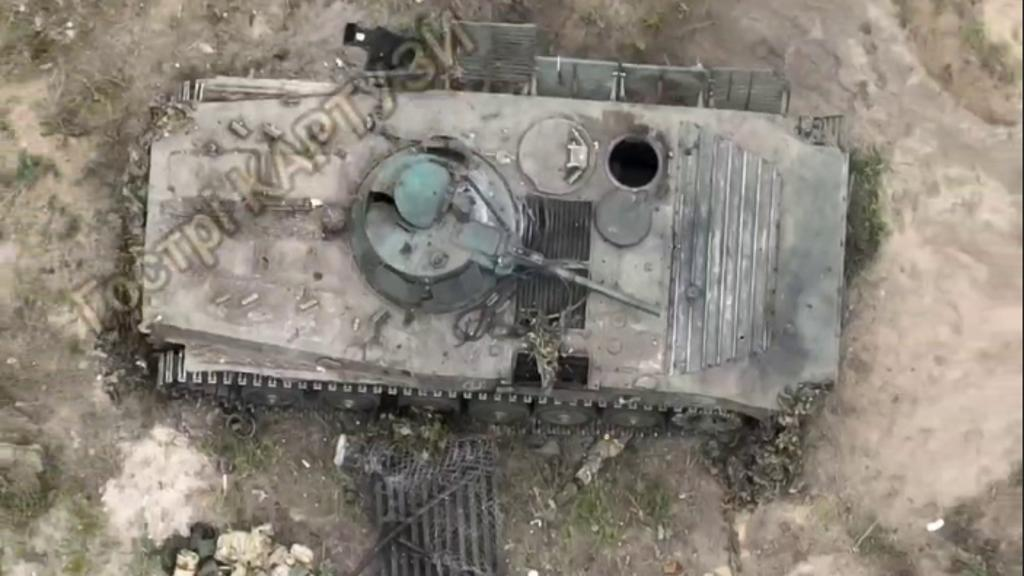APC-IFV: (131, 42, 855, 424)
